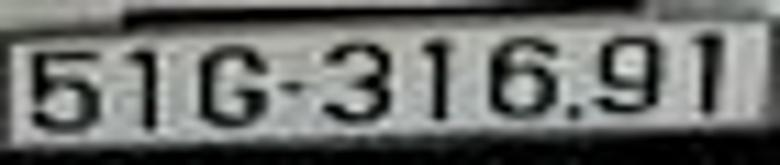-: (275, 80, 310, 102)
.: (564, 100, 585, 123)
1: (123, 42, 165, 132), (421, 30, 456, 122), (691, 24, 725, 114)
3: (326, 38, 392, 129)
5: (32, 49, 108, 132)
6: (487, 34, 557, 120)
9: (596, 32, 662, 114)
G: (199, 42, 269, 130)
